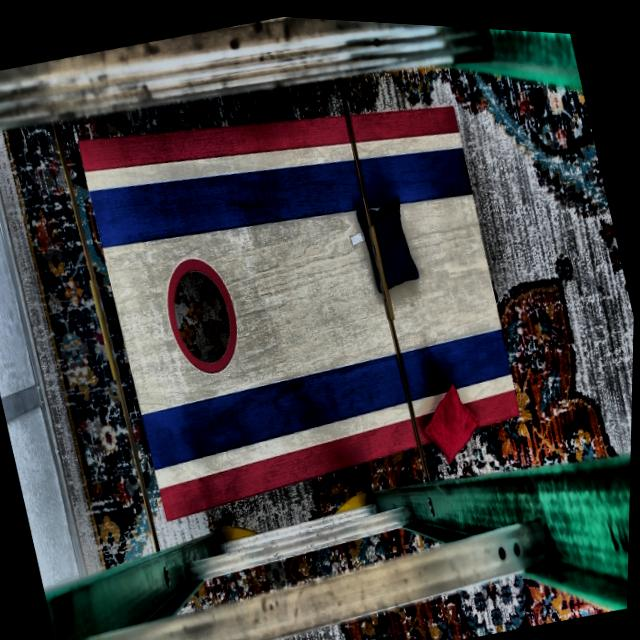blue-bean-bag: (353, 191, 423, 291)
board: (84, 85, 525, 496)
hole: (156, 245, 251, 379)
red-bean-bag: (415, 376, 488, 465)
